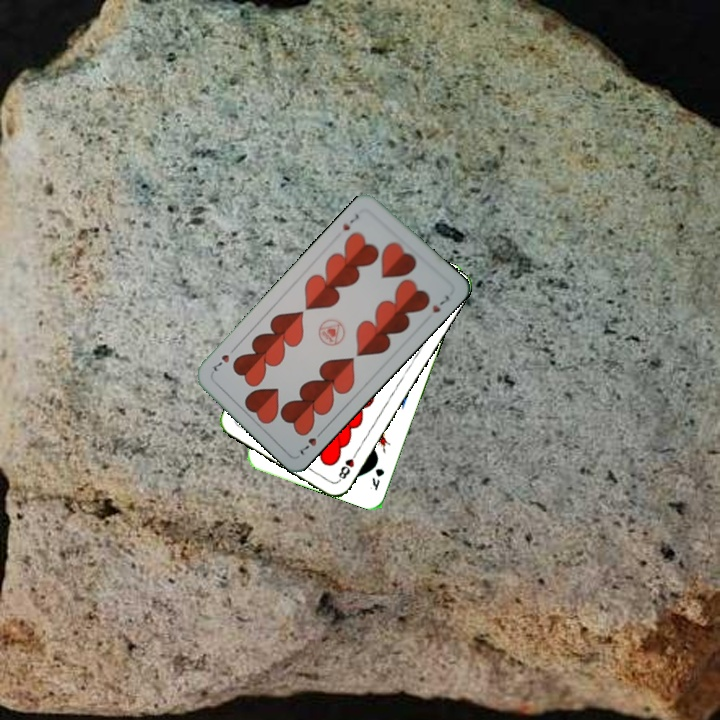GK: (366, 464, 387, 493)
H7: (296, 425, 327, 458), (338, 209, 362, 233)
H8: (334, 447, 360, 484)
